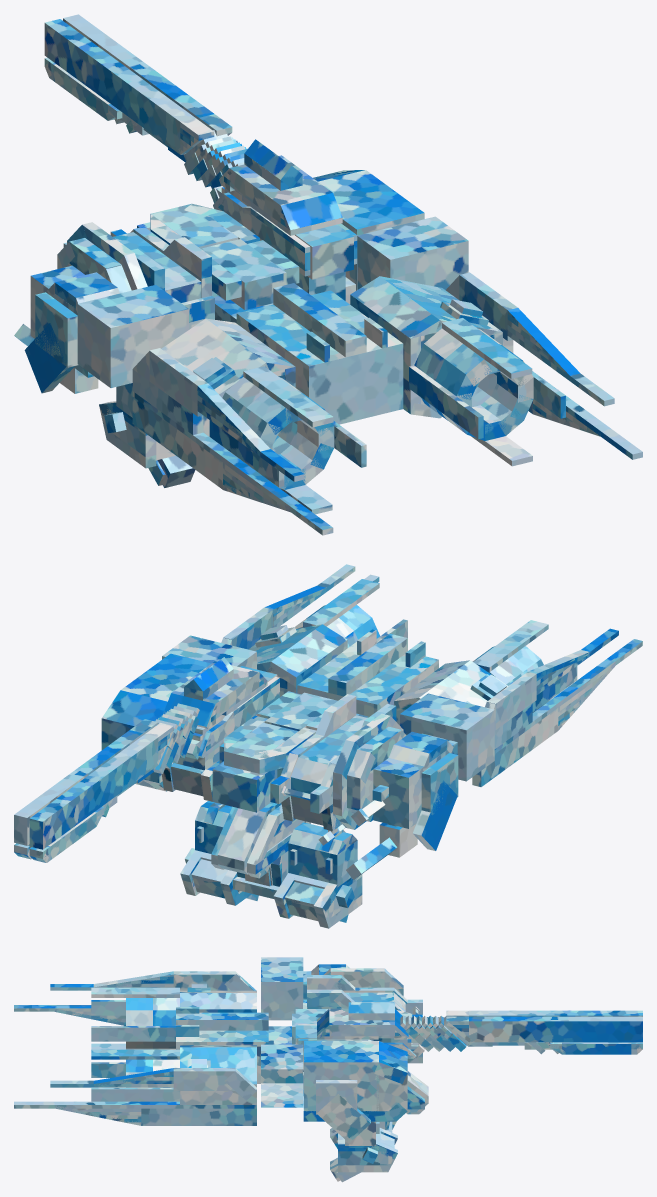
The model's file is torso.obj.
The picture shows the model from 3 angles, top to bottom: view 1: azimuth 30°, elevation 25°; view 2: azimuth 150°, elevation 25°; view 3: azimuth 270°, elevation 25°; orthographic projection. The views are drawn at different scales.
Visible parts, largest first — view 1: model_0; view 2: model_0; view 3: model_0.
Part boxes in pixels (x1,y1,x2,y2): model_0: (14,14,642,535); model_0: (14,564,642,928); model_0: (14,957,642,1182).
Bounding box in the file's own units: 4.28 × 3.24 × 10.19.
